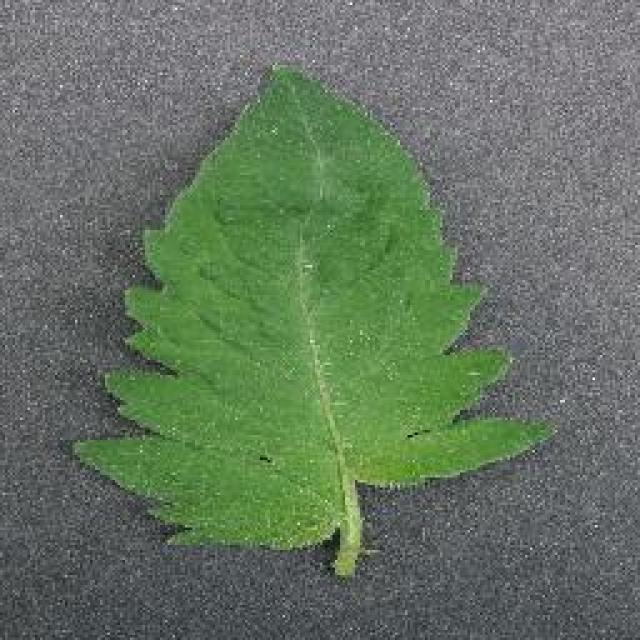Tomato_Healthy: (70, 36, 558, 593)
